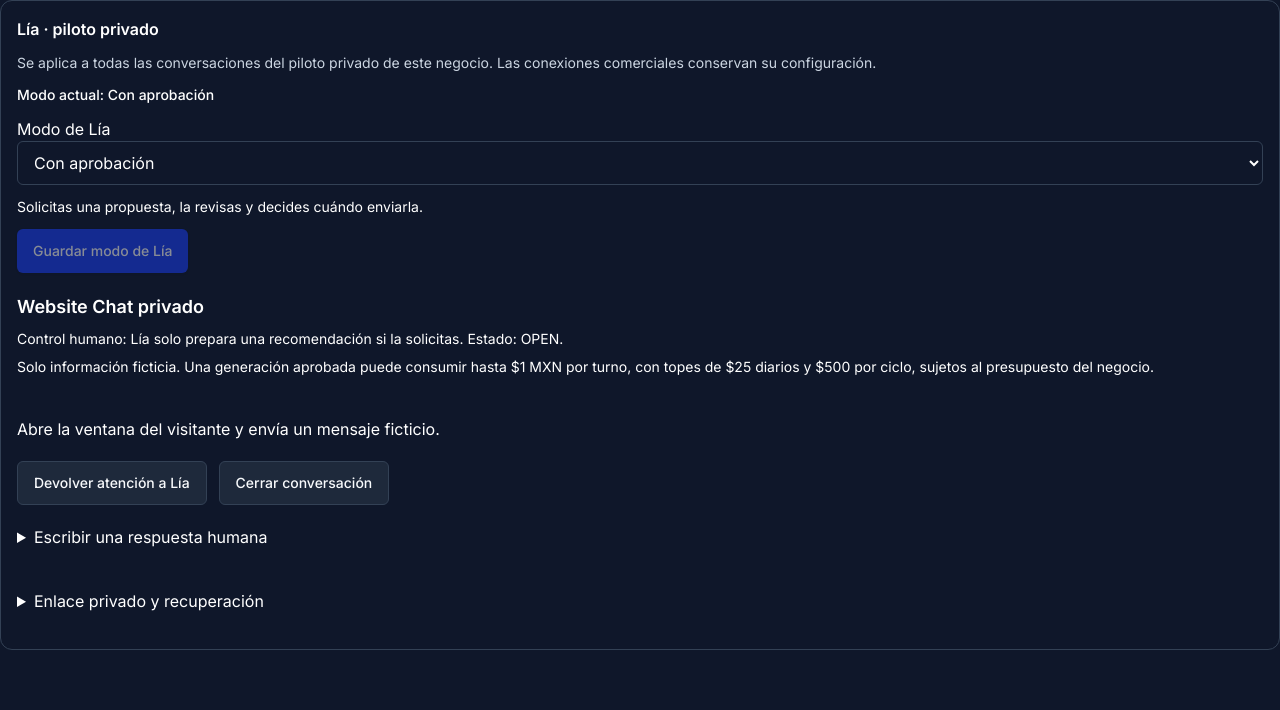
a newly available recommendation does not overwrite the human's unsent text
This screenshot has width=1280, height=710.
Click the heading "Escribir una respuesta humana" at {"x": 151, "y": 537}, box [34,527,268,547]
(page scrolled)
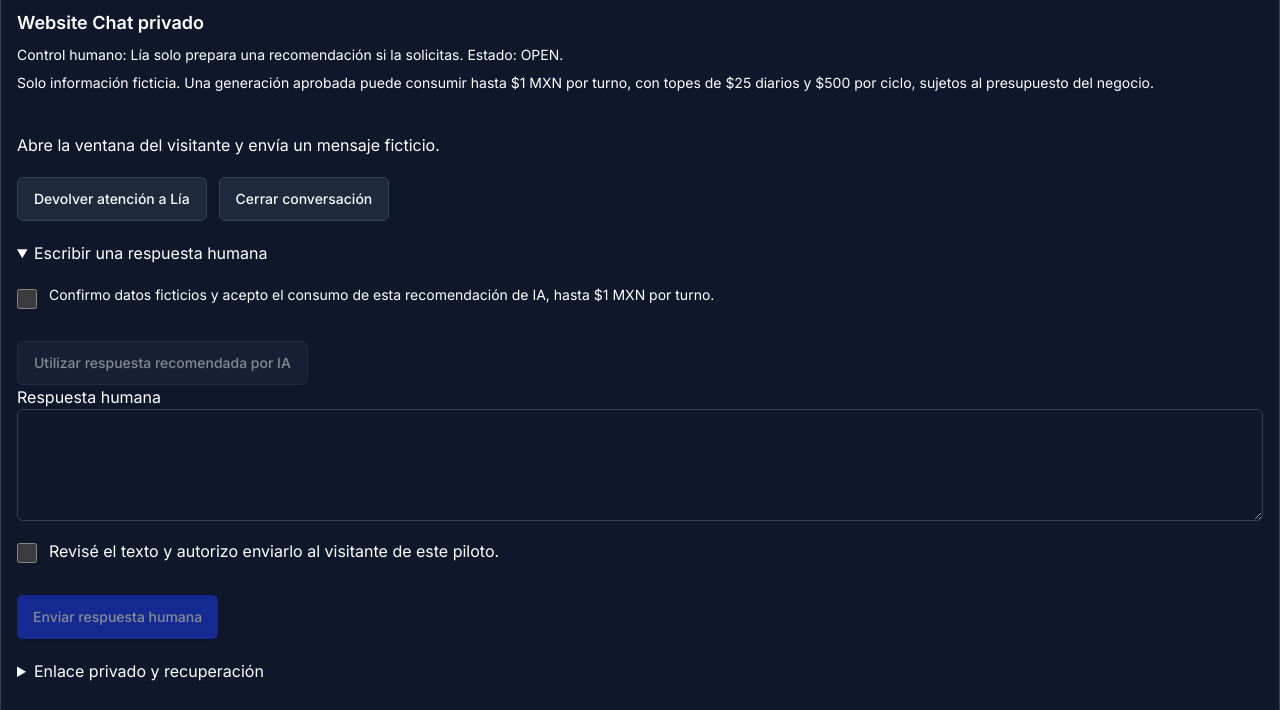
Type "Texto humano sin enviar" into the text box labelled "Respuesta humana" at {"x": 640, "y": 465}, box [17,409,1263,521]
Wait 2500 ms
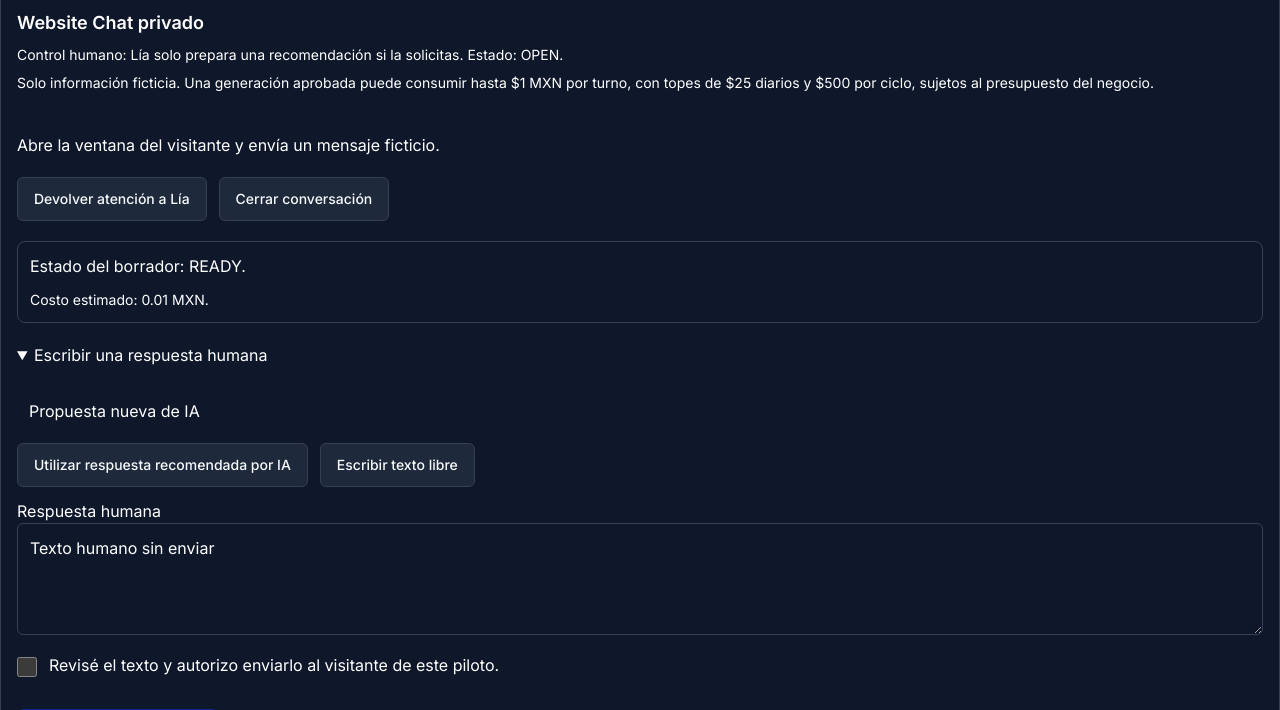
Click the button "Utilizar respuesta recomendada por IA" at {"x": 162, "y": 465}, box [17,443,308,487]
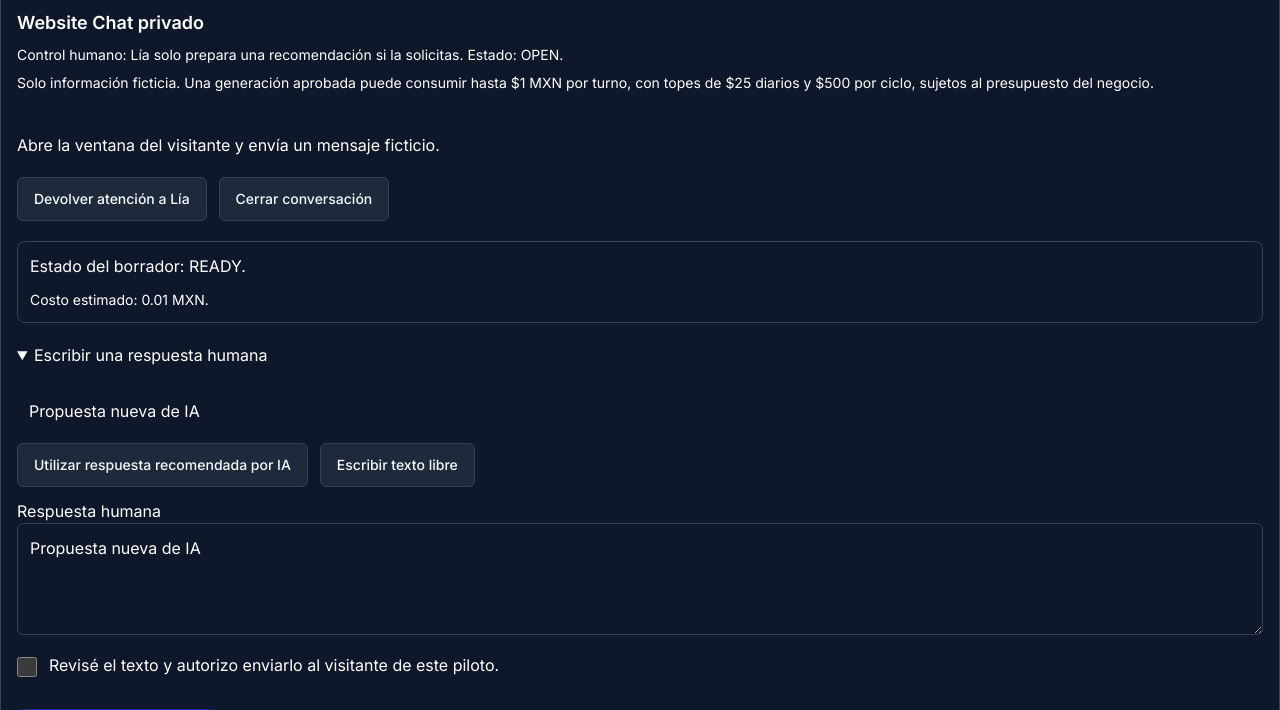
Now the text box labelled "Respuesta humana" holds "Propuesta nueva de IA", box [17,523,1263,635]
